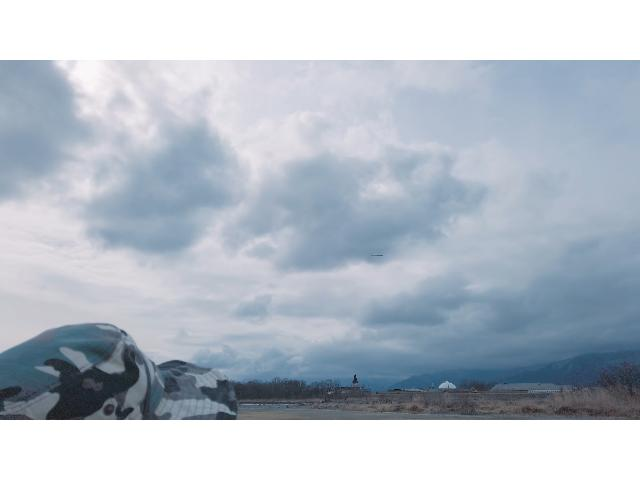Anti-Drone: (365, 245, 393, 265)
